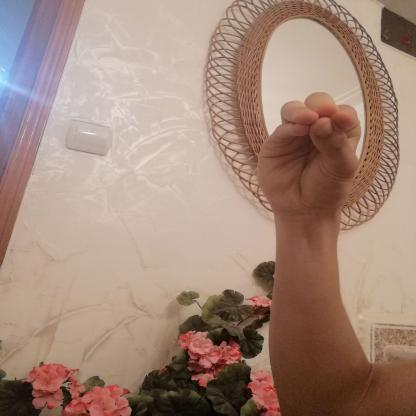HA: (240, 84, 375, 231)
